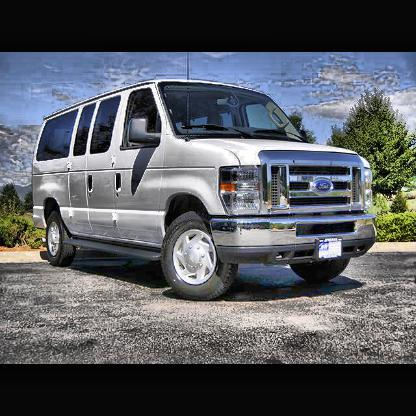Ford E-Series Wagon Van 2012: (35, 81, 376, 298)
